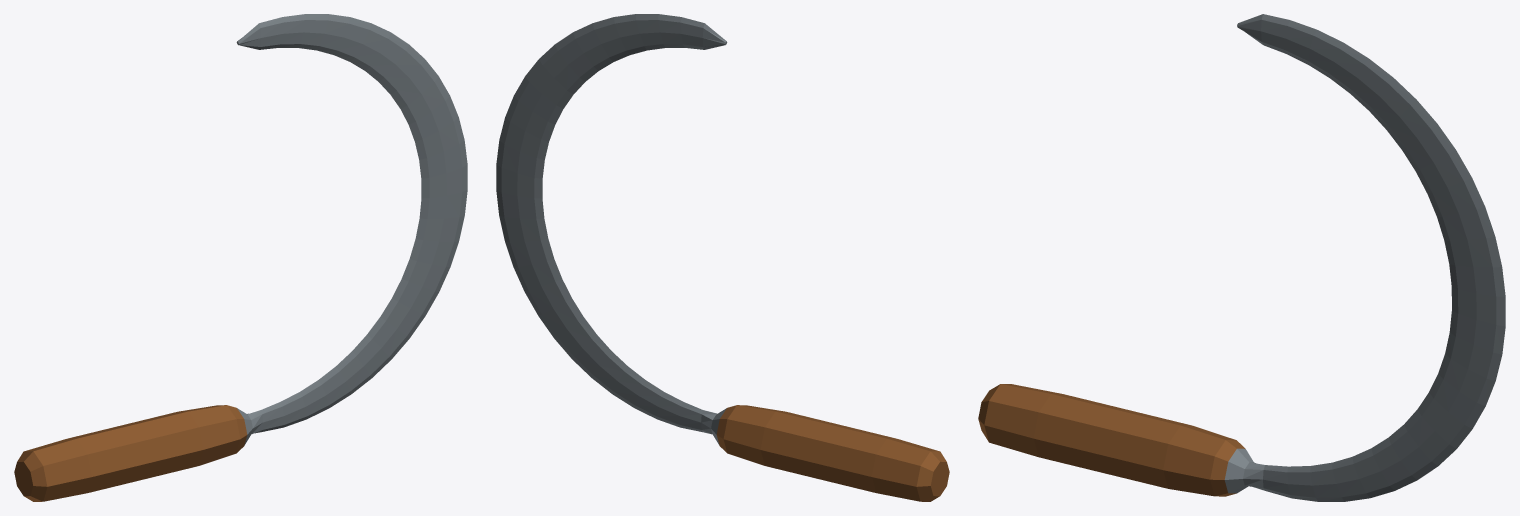
File: NEW_RECOVERY_075_LOD0.fbx
3 renders of one model, left to right at view 1: azimuth 30°, elevation 25°; view 2: azimuth 150°, elevation 25°; view 3: azimuth 330°, elevation 25°, orthographic. The views are drawn at different scales.
Visible parts, largest first — view 1: Agricultural hand sickle; view 2: Agricultural hand sickle; view 3: Agricultural hand sickle.
Part boxes in pixels (box(x1,y1,x2,y2)): Agricultural hand sickle: box(14, 14, 467, 501); Agricultural hand sickle: box(496, 14, 949, 501); Agricultural hand sickle: box(978, 14, 1505, 501).
Size of the model in its own units: 45.86 by 5.4 by 42.07.
